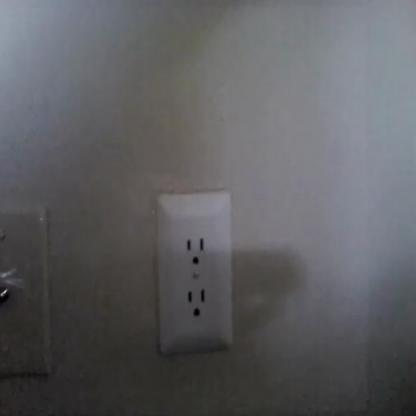OUTLET: (158, 191, 232, 350)
